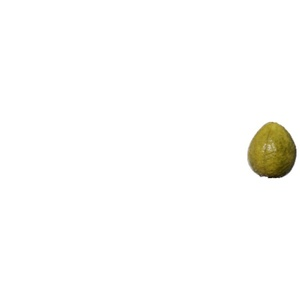goiaba: (241, 126, 298, 180)
